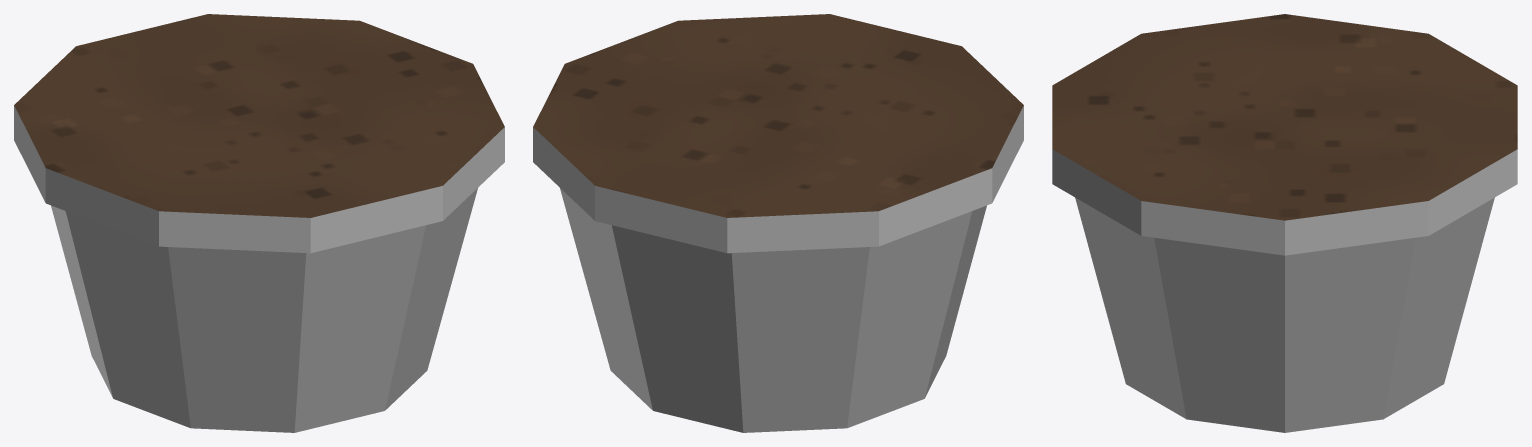
Rendered from plant_pot.obj.
3 views of the same model, side by side, from view 1: azimuth 30°, elevation 25°; view 2: azimuth 150°, elevation 25°; view 3: azimuth 270°, elevation 25° (orthographic).
Parts seen in each view (by area): view 1: plant_pot; view 2: plant_pot; view 3: plant_pot.
Part boxes in pixels (<box>): plant_pot: <box>14,14,504,432</box>; plant_pot: <box>533,14,1023,432</box>; plant_pot: <box>1052,14,1517,432</box>.
Bounding box in the file's own units: 0.76 × 0.42 × 0.7228.
